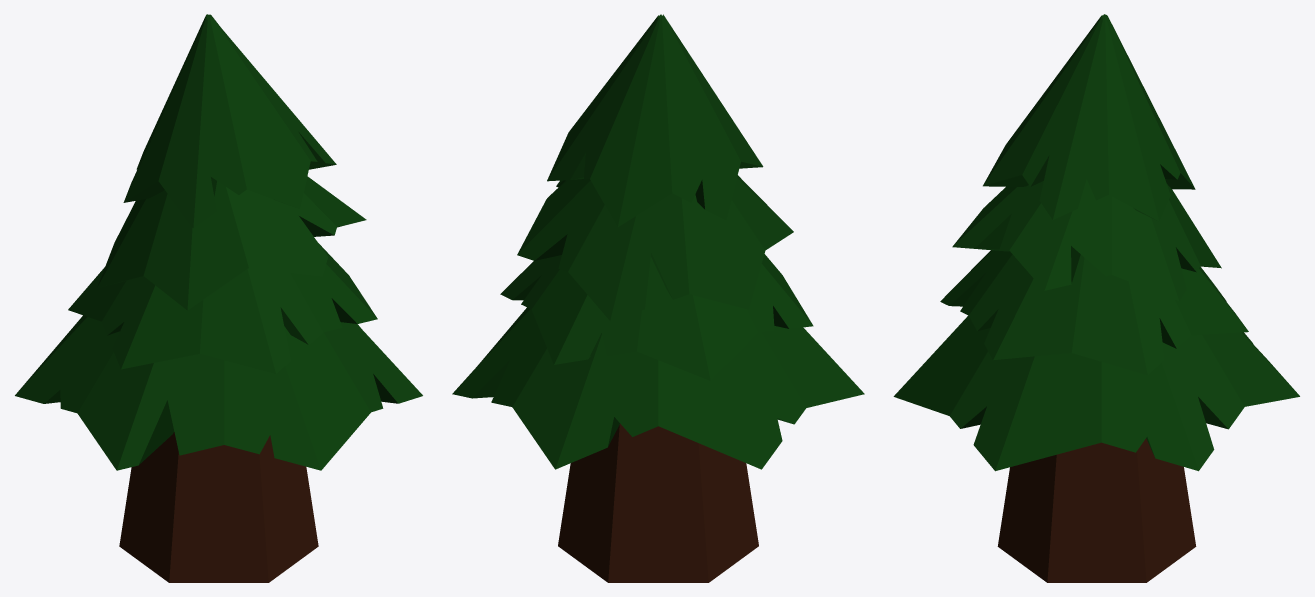
File: Tree_1batchcollection.fbx_Tree1.fbx
3 renders of one model, left to right at view 1: azimuth 30°, elevation 25°; view 2: azimuth 150°, elevation 25°; view 3: azimuth 270°, elevation 25°, orthographic.
Visible parts, largest first — view 1: Cylinder.001, Cylinder, Cylinder.004, Cylinder.002, Cylinder.003; view 2: Cylinder.001, Cylinder, Cylinder.004, Cylinder.003, Cylinder.002; view 3: Cylinder.001, Cylinder, Cylinder.004, Cylinder.002, Cylinder.003.
Part boxes in pixels (x1=…): Cylinder.001: x1=15, y1=315, x2=422, y2=470; Cylinder: x1=119, y1=432, x2=318, y2=582; Cylinder.004: x1=123, y1=14, x2=336, y2=228; Cylinder.002: x1=68, y1=243, x2=377, y2=373; Cylinder.003: x1=97, y1=176, x2=366, y2=310; Cylinder.001: x1=452, y1=307, x2=864, y2=469; Cylinder: x1=558, y1=423, x2=758, y2=582; Cylinder.004: x1=547, y1=14, x2=763, y2=226; Cylinder.003: x1=517, y1=175, x2=793, y2=320; Cylinder.002: x1=500, y1=254, x2=813, y2=380; Cylinder.001: x1=893, y1=315, x2=1299, y2=471; Cylinder: x1=997, y1=438, x2=1196, y2=582; Cylinder.004: x1=983, y1=14, x2=1195, y2=221; Cylinder.002: x1=940, y1=250, x2=1248, y2=375; Cylinder.003: x1=952, y1=179, x2=1221, y2=301.
Size of the model in its own units: 355 by 587 by 410.
